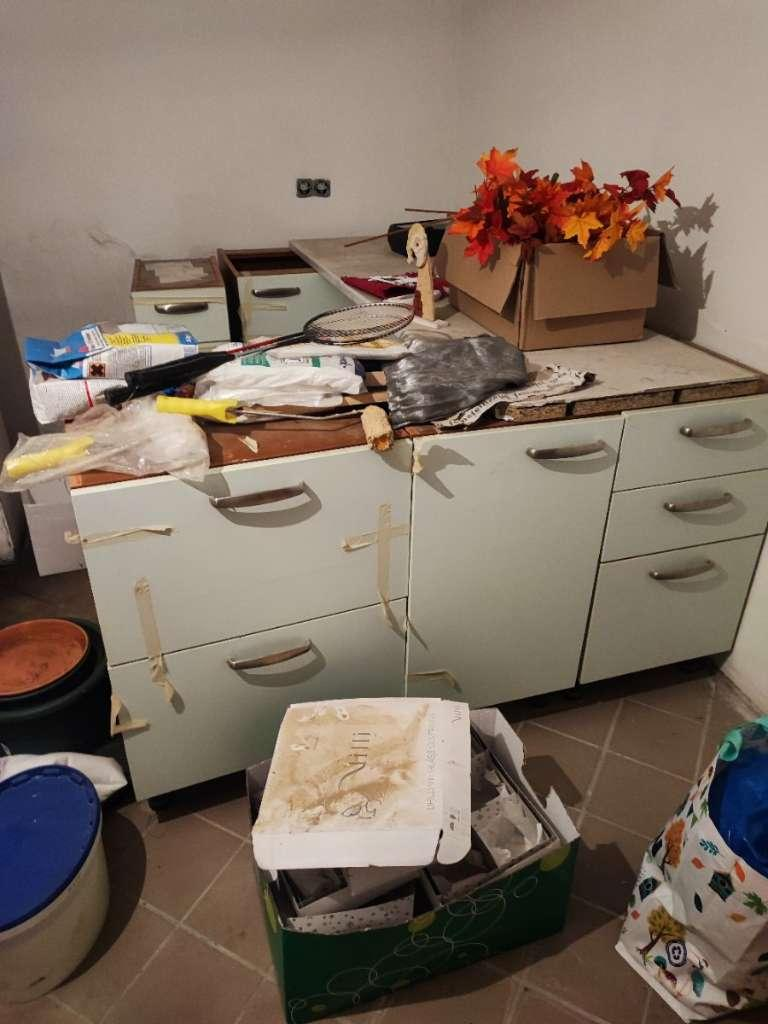cabinet_door: (413, 432, 597, 693), (88, 477, 412, 620), (112, 630, 405, 772), (598, 550, 748, 657), (618, 406, 768, 481), (612, 482, 765, 547)
handle: (227, 635, 325, 693), (197, 477, 320, 515), (520, 430, 614, 469), (678, 412, 759, 451), (663, 488, 740, 524), (650, 555, 719, 589)
